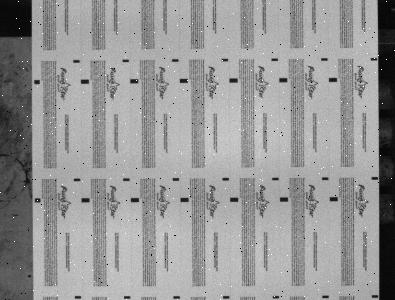backgroundclutter: (28, 274, 32, 277)
qblock: (130, 197, 139, 202), (180, 197, 189, 202), (230, 197, 239, 202), (81, 197, 90, 202), (80, 79, 89, 84), (229, 78, 238, 83), (329, 77, 337, 82), (329, 197, 338, 201), (130, 79, 139, 83), (279, 78, 288, 82), (280, 197, 288, 201), (180, 79, 188, 83), (34, 198, 40, 203), (34, 80, 40, 84)
smallqblock: (370, 57, 378, 61), (371, 176, 379, 180), (73, 59, 80, 63), (222, 177, 229, 181), (74, 295, 81, 299), (223, 295, 230, 299), (172, 178, 180, 181), (221, 58, 229, 61), (122, 59, 129, 62), (172, 59, 179, 62), (321, 58, 328, 61), (272, 177, 279, 180), (73, 178, 80, 181), (123, 178, 130, 181), (271, 58, 278, 61), (322, 177, 329, 180), (173, 296, 180, 299), (124, 296, 131, 299), (272, 295, 279, 298), (322, 295, 329, 298), (372, 295, 378, 298)
